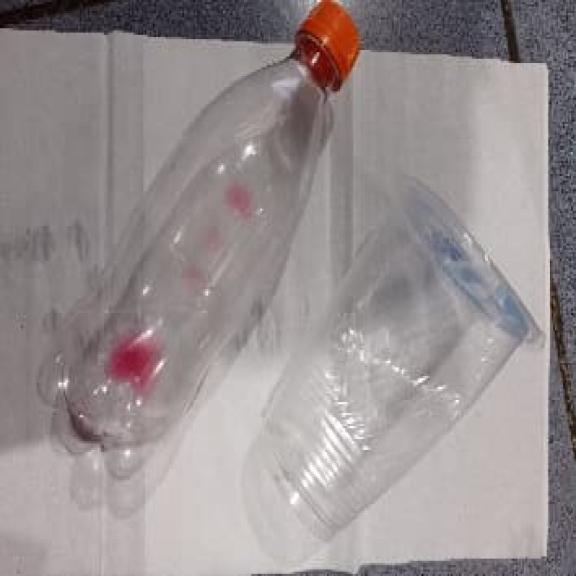Plastik: (65, 2, 359, 439), (254, 180, 531, 540)
